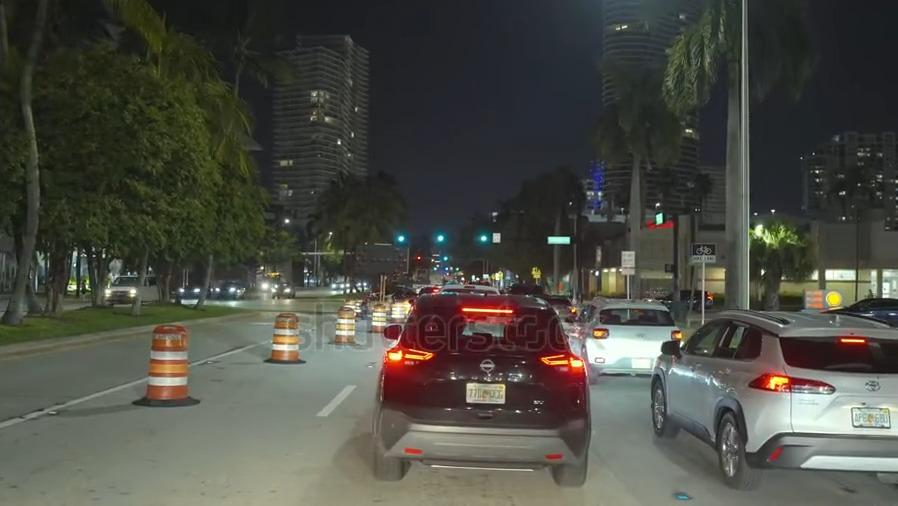bus: (262, 269, 286, 293)
car: (379, 295, 588, 483), (662, 313, 898, 475), (569, 296, 679, 379), (94, 272, 163, 306), (825, 293, 898, 323), (644, 285, 713, 312), (545, 295, 578, 320), (175, 279, 210, 299), (213, 279, 246, 299), (271, 282, 293, 298)
cone: (145, 320, 191, 398), (270, 307, 300, 361), (333, 303, 355, 345), (387, 295, 407, 325), (370, 299, 385, 332)
traffic light: (428, 227, 451, 252), (473, 227, 493, 254), (392, 229, 409, 246)
wheel: (711, 410, 755, 485), (646, 377, 674, 435)
